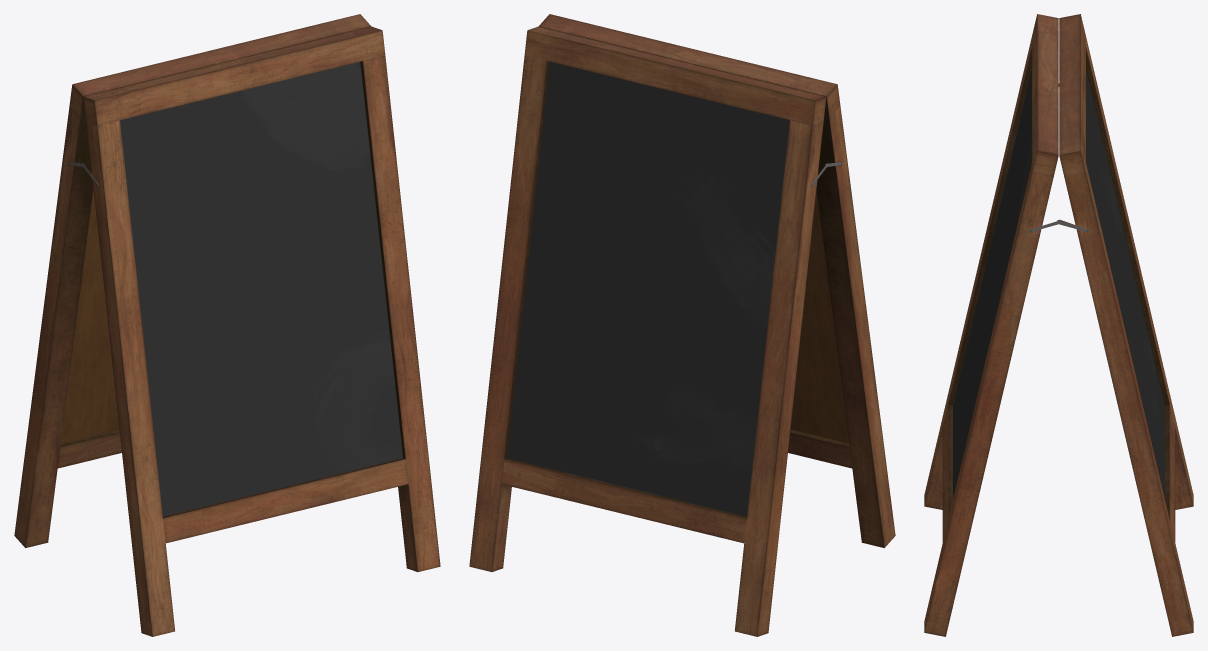
Rendered from standing_chalkboard_01_lod2.glb.
3 renders of one model, left to right at view 1: azimuth 30°, elevation 25°; view 2: azimuth 150°, elevation 25°; view 3: azimuth 270°, elevation 25°, orthographic. The views are drawn at different scales.
Parts seen in each view (by area): view 1: standing_chalkboard_01; view 2: standing_chalkboard_01; view 3: standing_chalkboard_01.
Part boxes in pixels (left/top/right/bottom): standing_chalkboard_01: left=14, top=14, right=440, bottom=636; standing_chalkboard_01: left=469, top=14, right=895, bottom=636; standing_chalkboard_01: left=924, top=14, right=1193, bottom=636.
Size of the model in its own units: 0.9162 by 1.51 by 0.7587.
Materials: 2 (2 with a texture image).
